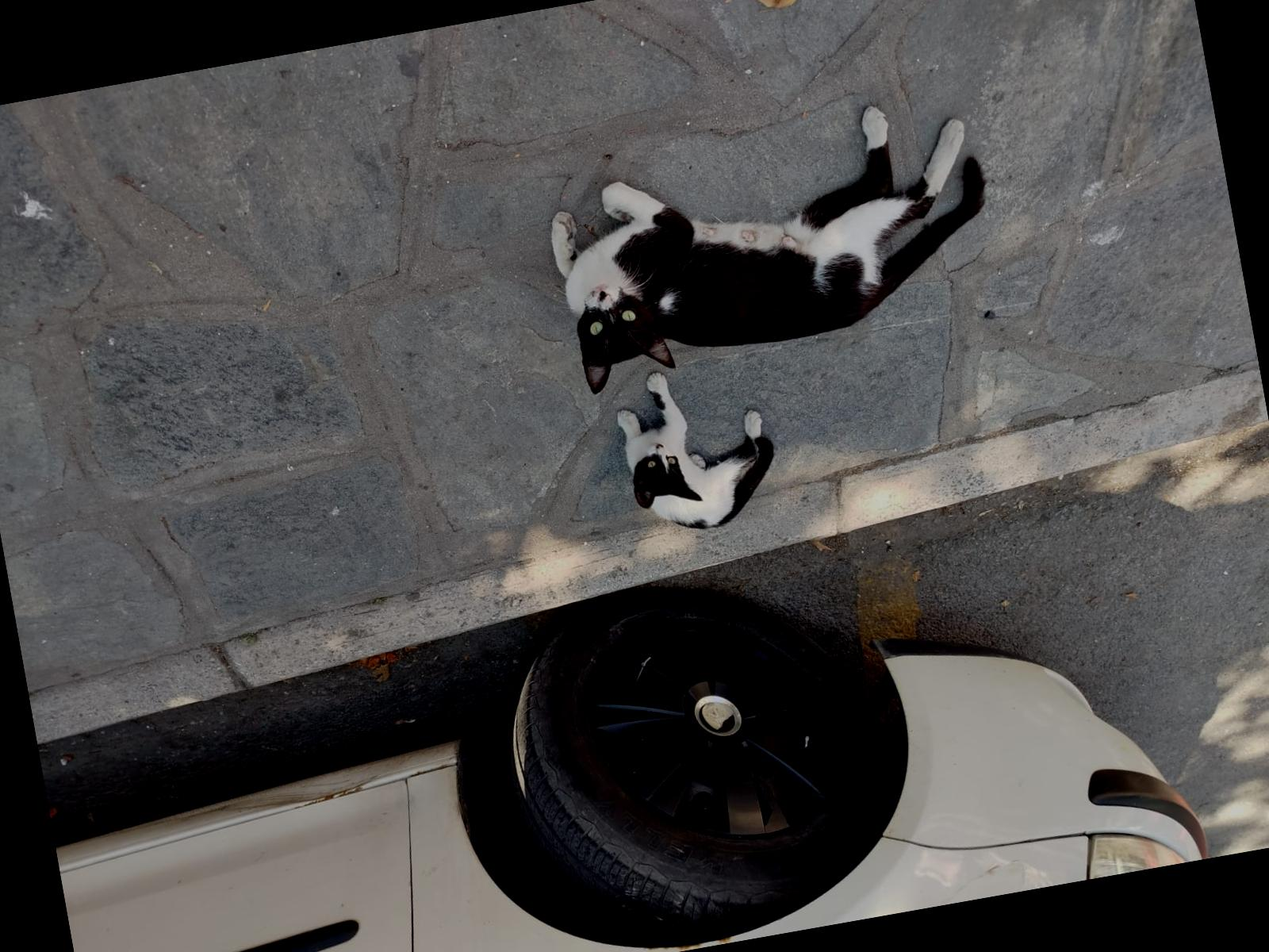macka: (537, 88, 1010, 398), (608, 353, 788, 543)
